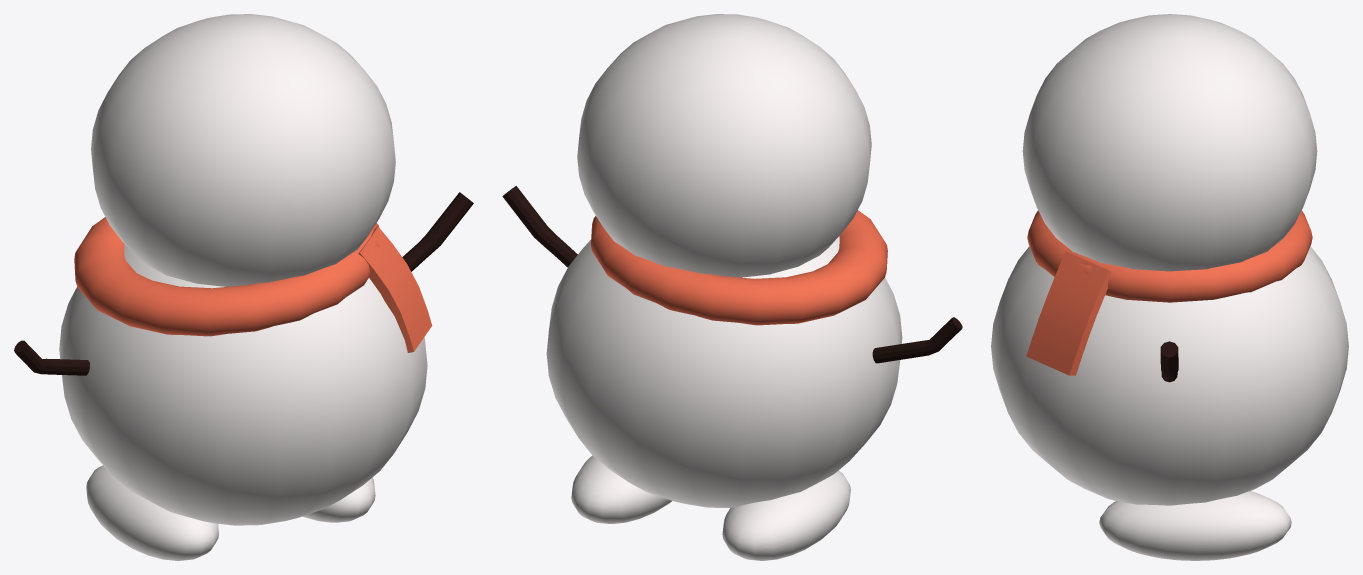
File: Snoman-color2.fbx
3 renders of one model, left to right at view 1: azimuth 30°, elevation 25°; view 2: azimuth 150°, elevation 25°; view 3: azimuth 270°, elevation 25°, orthographic. The views are drawn at different scales.
Parts seen in each view (by area): view 1: polySurface4; view 2: polySurface4; view 3: polySurface4.
Boxes of the visible parts, <box> form: polySurface4: <box>14,14,473,560</box>; polySurface4: <box>502,14,962,560</box>; polySurface4: <box>991,14,1348,560</box>.
Size of the model in its own units: 2.9 by 3.01 by 2.
Materials: 1 (1 with a texture image).
